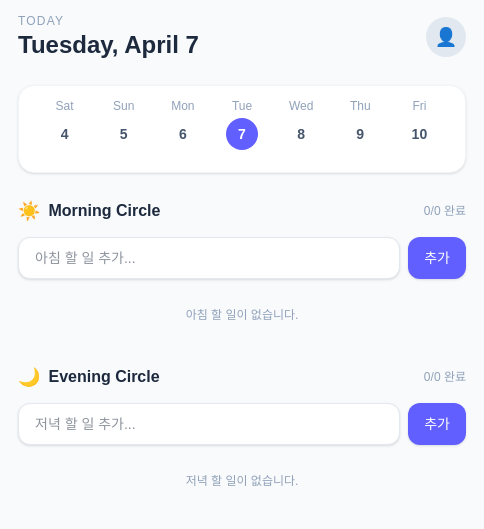
Test: Home › 아침 입력창에 태스크를 입력하고 추가하면 목록에 나타난다
expect the text "아침 할 일이 없습니다." is shown: met, box 186,308 -> 298,322
Type "공부하기" into the field with placeholder "아침 할 일 추가..." at (209, 258), box 18,237 -> 400,279
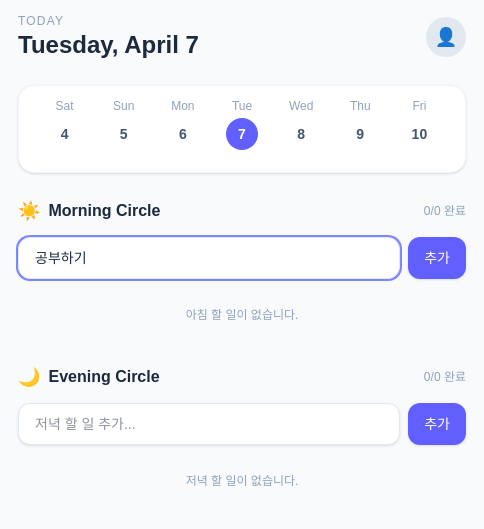
Click the button "추가" below "Morning Circle" at (437, 258), box 408,237 -> 466,279
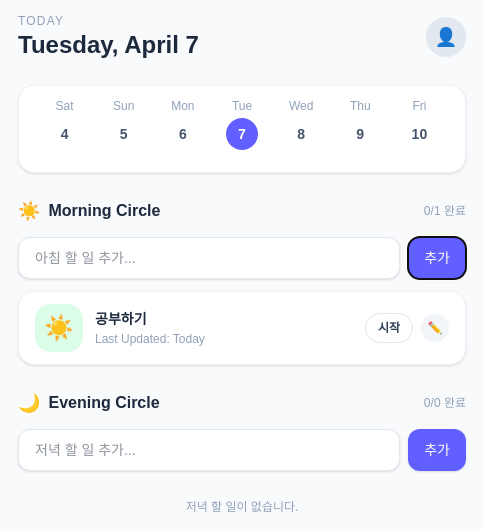
expect the text "공부하기" is shown: met, box 95,311 -> 146,327
expect the field with placeholder "아침 할 일 추가..." is empty: met, box 18,237 -> 400,279
